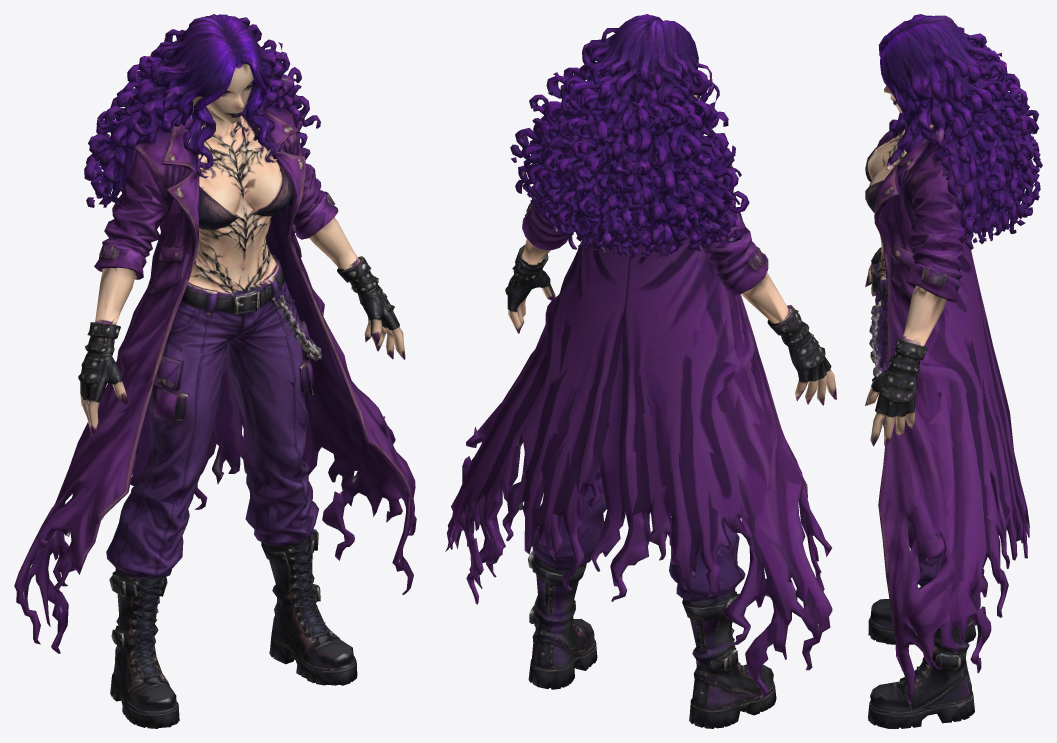
The model's file is Eliana.glb.
3 views of the same model, side by side, from view 1: azimuth 30°, elevation 25°; view 2: azimuth 150°, elevation 25°; view 3: azimuth 270°, elevation 25° (orthographic). The views are drawn at different scales.
Parts seen in each view (by area): view 1: Mesh_0; view 2: Mesh_0; view 3: Mesh_0.
Boxes of the visible parts, x1,y1,x2,y2 form: Mesh_0: (14,14,416,728); Mesh_0: (445,14,836,728); Mesh_0: (865,14,1042,728).
Bounding box in the file's own units: 1.17 × 1.9 × 0.4688.
Materials: 1 (1 with a texture image).
